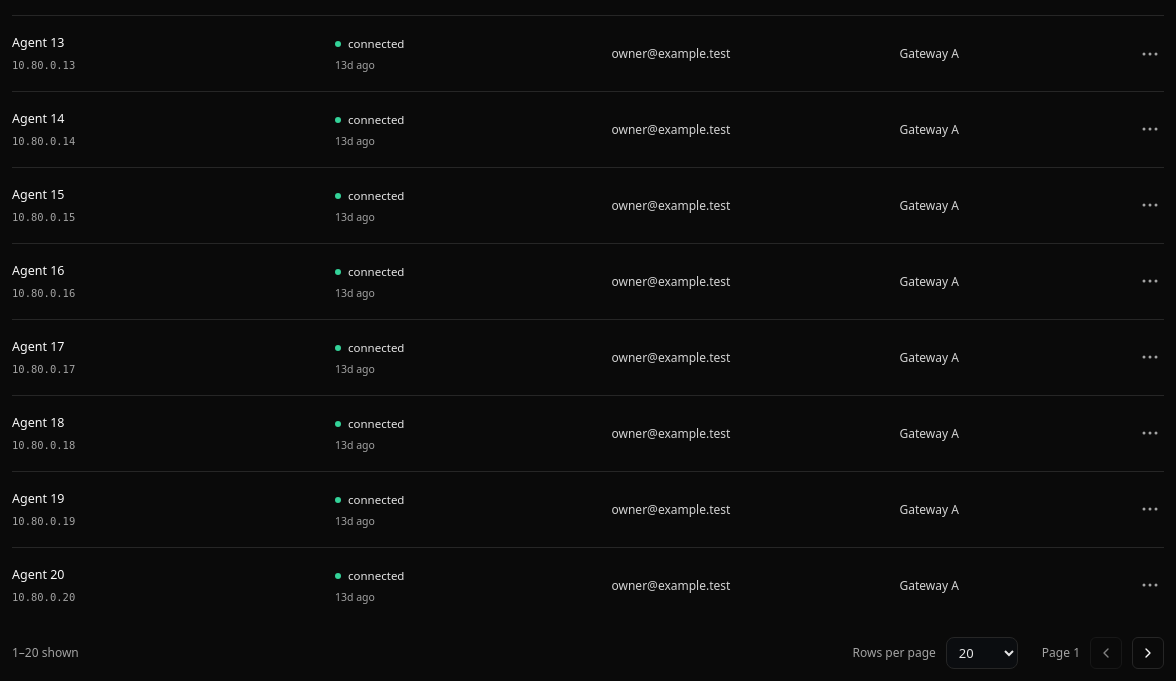
Test: AI Agents inventory paging and authority › replaces cursor pages, preserves a short last page, and returns through the actual cursor history
This screenshot has width=1176, height=681.
(page scrolled)
Step 1. Click the button named "Next page" → (1148, 653), box left=1132, top=637, right=1164, bottom=669
(page scrolled)
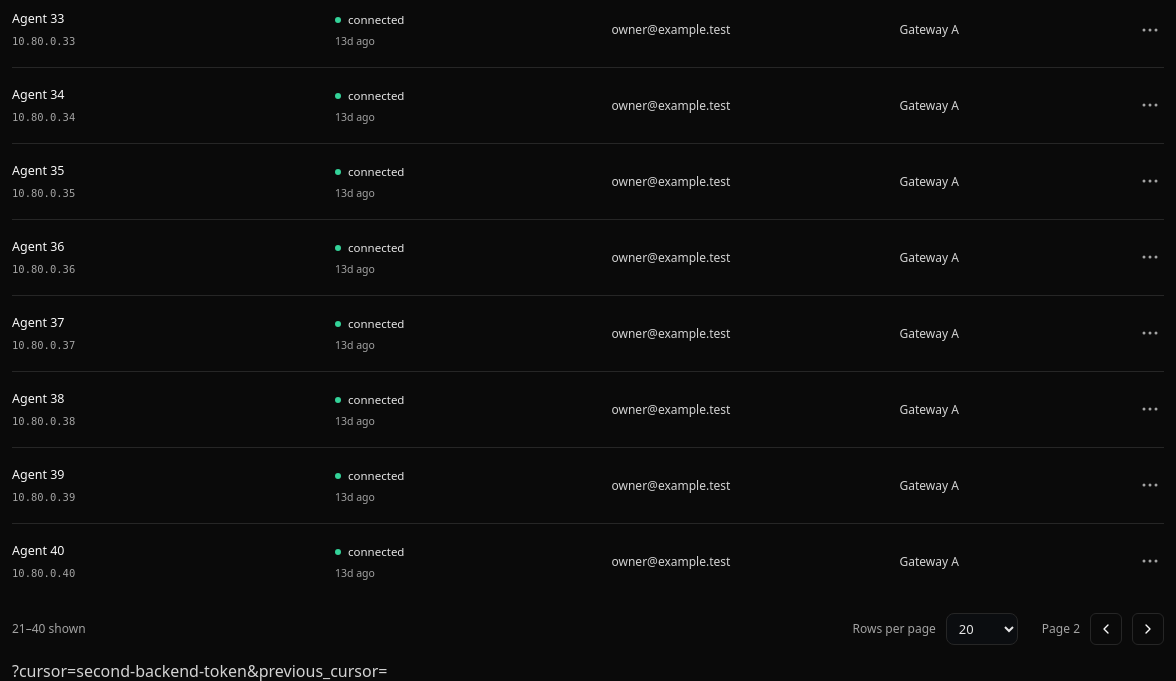
Step 2. Click the button named "Next page" → (1148, 629), box left=1132, top=613, right=1164, bottom=645
(page scrolled)
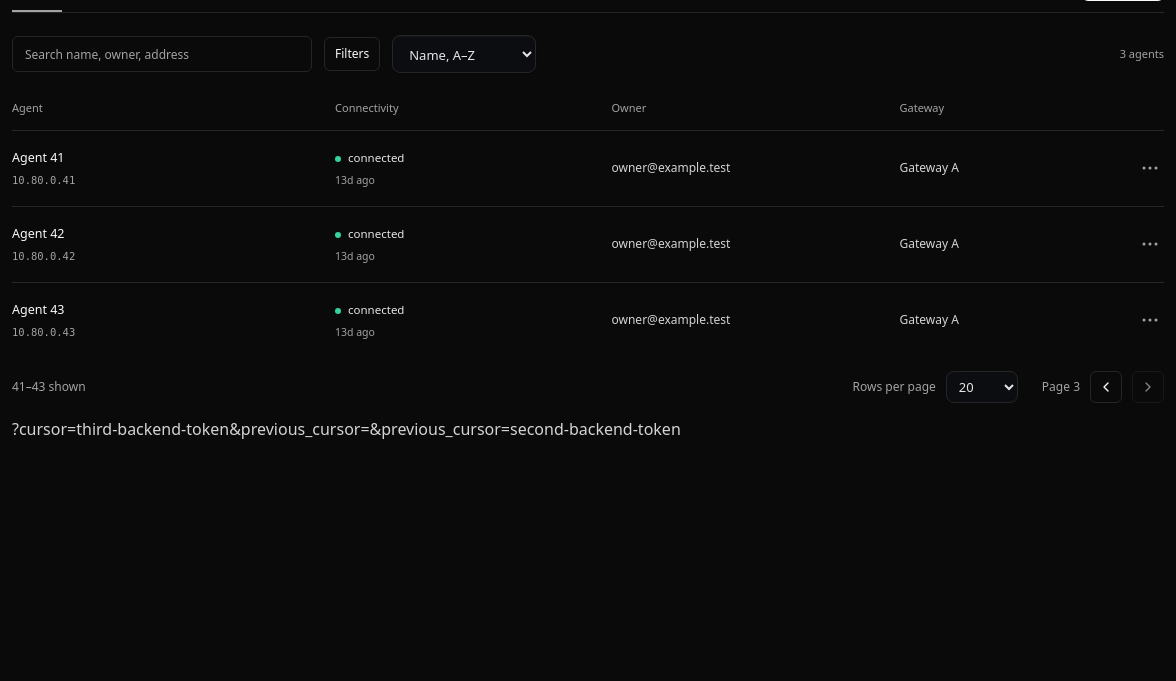
Expected: the number of rows is 4, left=12, top=89, right=1164, bottom=131; left=12, top=131, right=1164, bottom=207; left=12, top=206, right=1164, bottom=282; left=12, top=282, right=1164, bottom=358
Expected: the button named "Previous page" is enabled
Expected: the link "Agent 43" is shown, left=12, top=301, right=64, bottom=318
Step 3. Click the button named "Previous page" → (1106, 388), box left=1090, top=372, right=1122, bottom=404
(page scrolled)
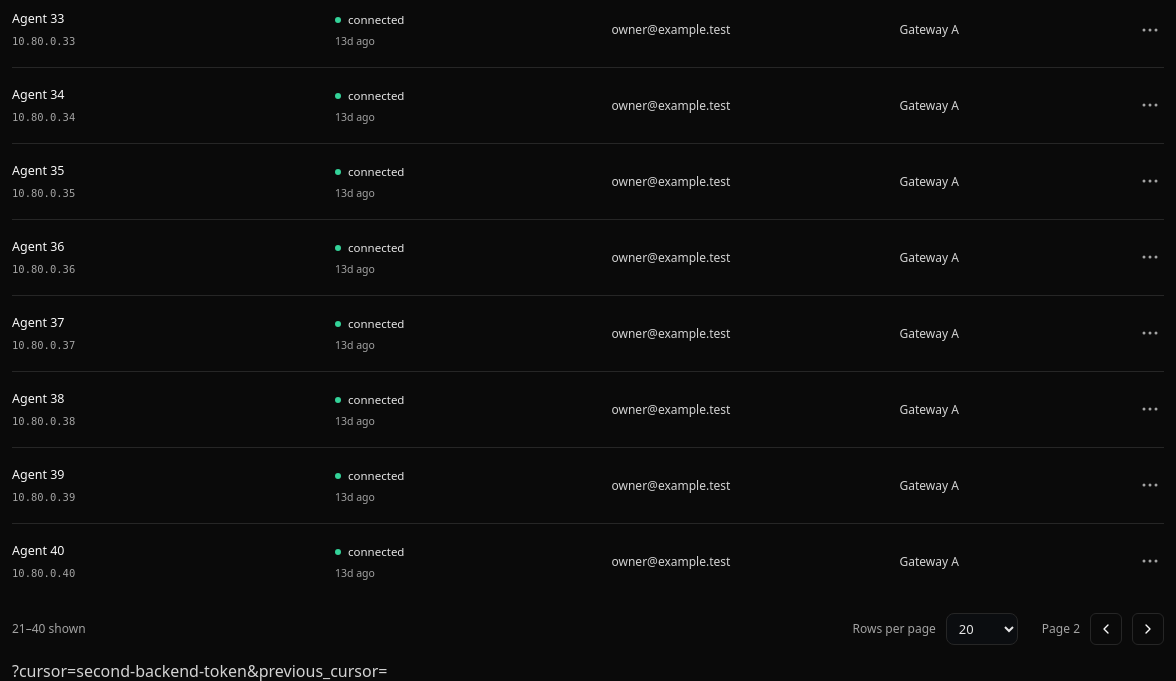
Step 4. Click the button named "Previous page" → (1106, 629), box left=1090, top=613, right=1122, bottom=645
(page scrolled)
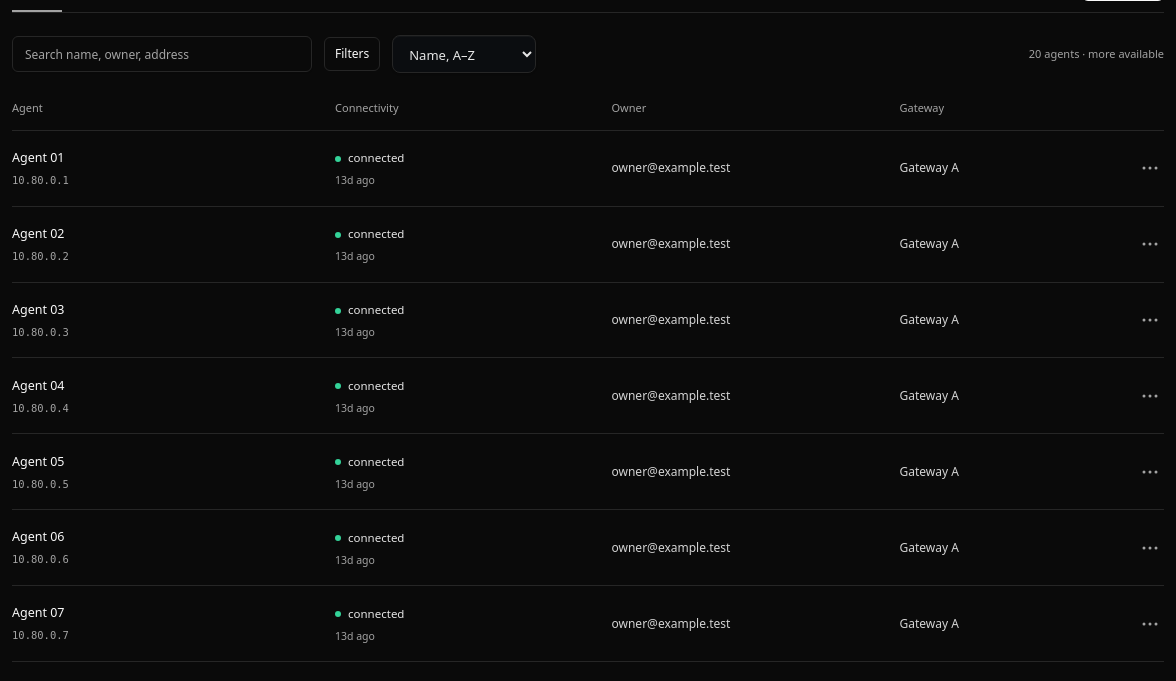
Expected: the link "Agent 01" is shown, left=12, top=149, right=64, bottom=166
